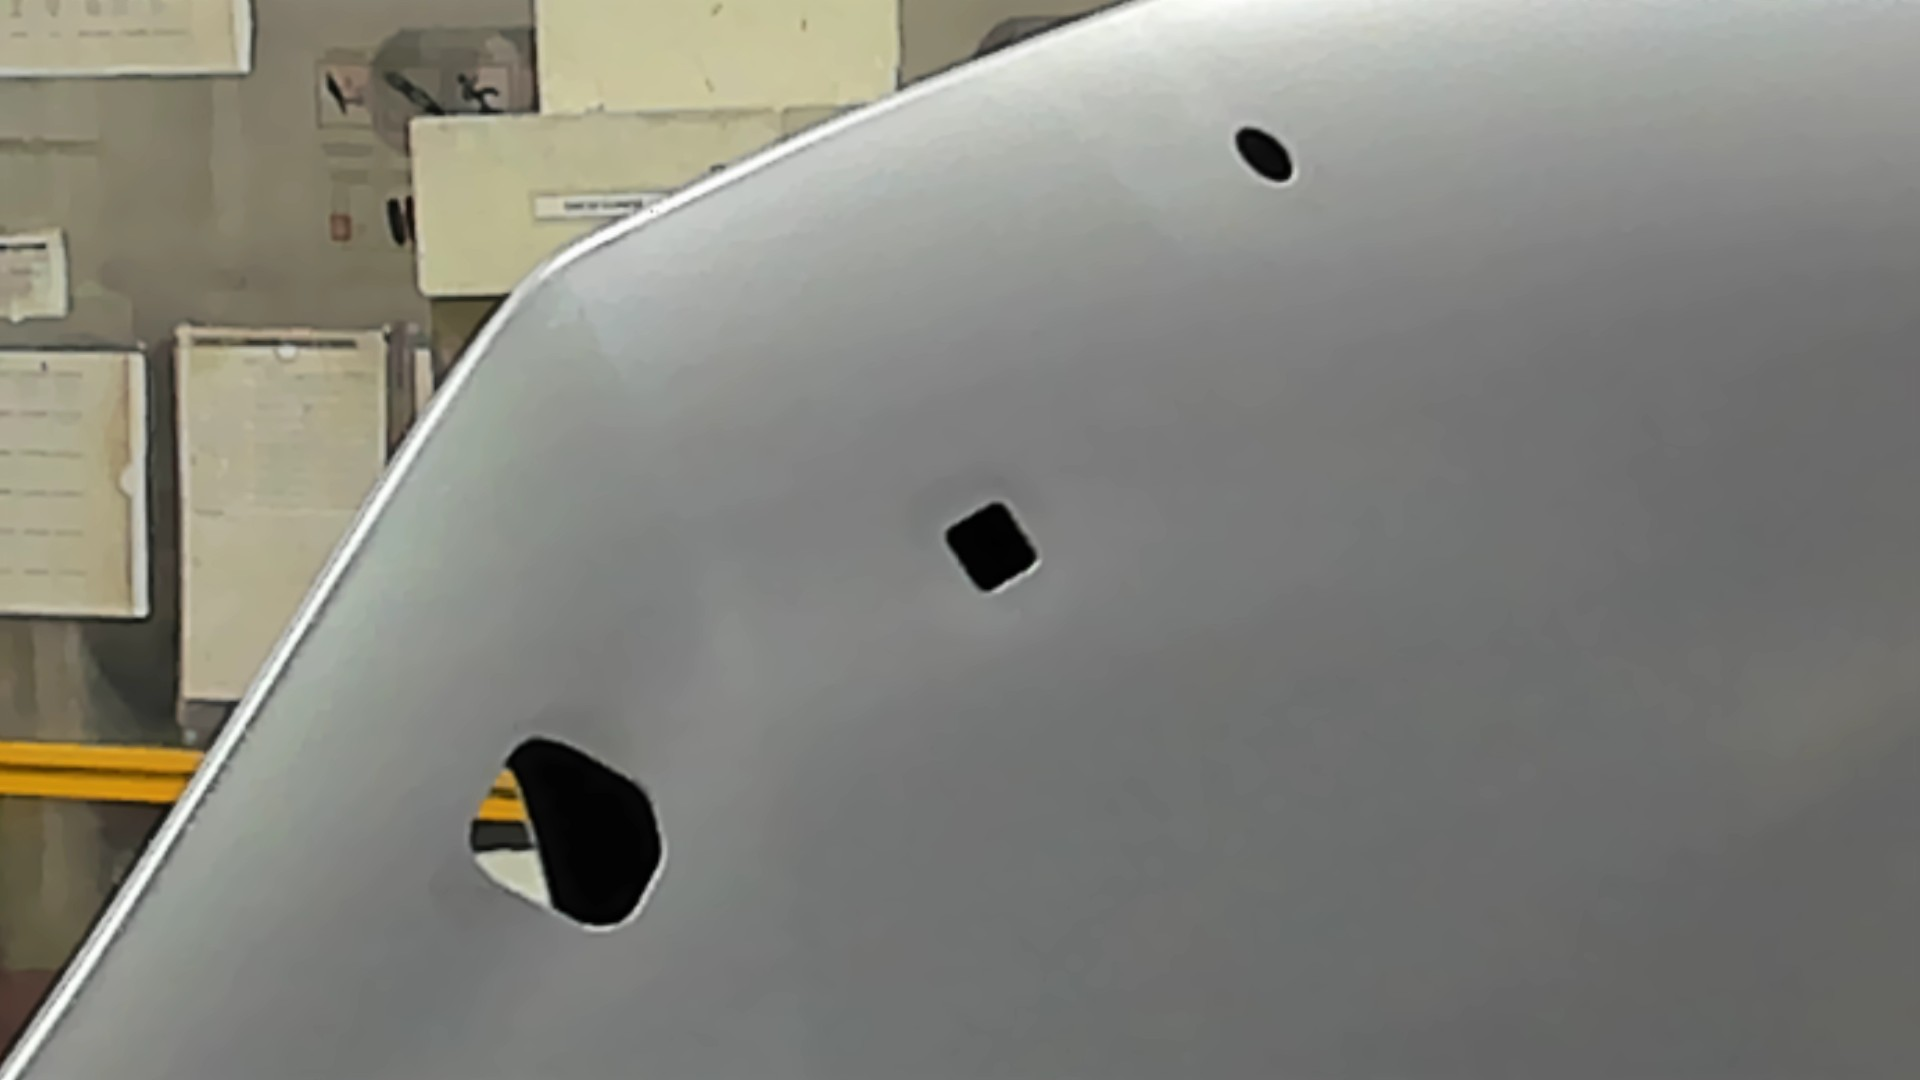chico: (1226, 119, 1304, 191)
grande: (458, 727, 673, 939)
mediano: (936, 496, 1046, 601)
